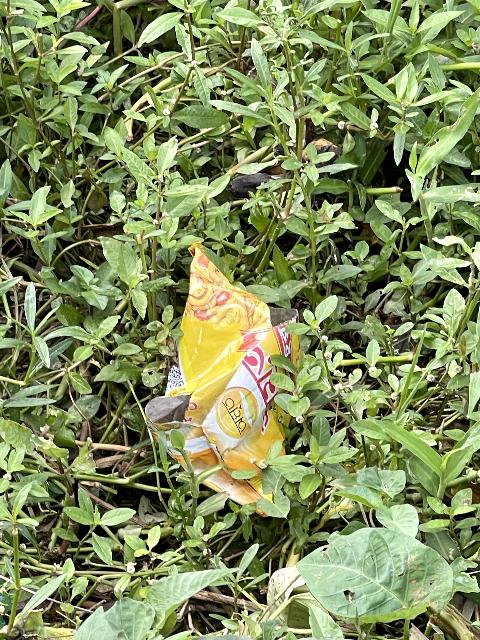packet: (154, 242, 342, 501)
